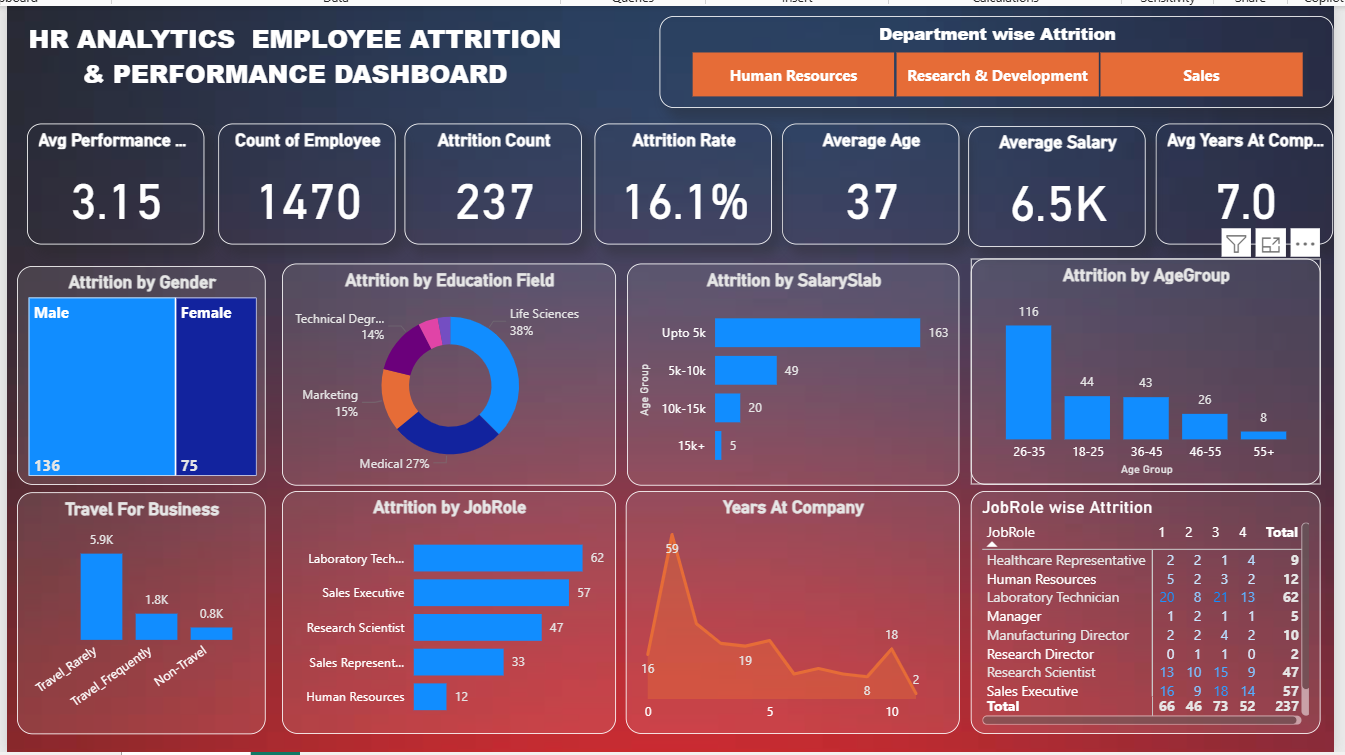

The page's visual inventory and layout, read from the dashboard file:
{"tool":"powerbi","page":{"name":"Hr_Analysis","canvas":[1280,720],"ordinal":0},"visuals":[{"type":"card","title":"Count of Employee","fields":{"Values":["Sum(HR_Analytics_project.EmployeeCount)"]},"box":[204.5,113.9,171.5,116.6],"z":0},{"type":"card","title":"Average Age","fields":{"Values":["Avg(HR_Analytics_project.Age)"]},"box":[747.9,113.9,171.5,116.6],"z":1000},{"type":"card","title":"Attrition Rate","fields":{"Values":["HR_Analytics_project.AttritionRate"]},"box":[566.7,113.9,171.5,116.6],"z":2000},{"type":"card","title":"Attrition Count","fields":{"Values":["Sum(HR_Analytics_project.AttritionCount)"]},"box":[384.2,113.9,171.5,116.6],"z":3000},{"type":"card","title":"Avg Years At Company","fields":{"Values":["Avg(HR_Analytics_project.YearsAtCompany)"]},"box":[1108.8,113.9,171.5,116.6],"z":4000},{"type":"card","title":"Average Salary","fields":{"Values":["Avg(HR_Analytics_project.MonthlyIncome)"]},"box":[927.6,115.3,171.5,116.6],"z":5000},{"type":"donutChart","title":"Attrition by Education Field","fields":{"Category":["HR_Analytics_project.EducationField"],"Y":["Sum(HR_Analytics_project.AttritionCount)"]},"box":[264.8,248.4,322.5,214.1],"z":6000},{"type":"clusteredColumnChart","title":"Attrition by AgeGroup","fields":{"Category":["HR_Analytics_project.AgeGroup"],"Y":["Sum(HR_Analytics_project.AttritionCount)"]},"box":[930.4,244.3,337.6,218.2],"z":7000},{"type":"pivotTable","title":"JobRole wise Attrition","fields":{"Rows":["JobRoleTable.JobRole"],"Columns":["HR_Analytics_project.JobSatisfaction"],"Values":["Sum(HR_Analytics_project.AttritionCount)"]},"box":[930.4,467.9,337.6,234.6],"z":8000},{"type":"barChart","title":"Attrition by SalarySlab","fields":{"Category":["HR_Analytics_project.SalarySlab"],"Y":["Sum(HR_Analytics_project.AttritionCount)"]},"box":[598.3,248.4,321.1,214.1],"z":9000},{"type":"areaChart","title":"Years At Company","fields":{"Category":["HR_Analytics_project.YearsAtCompany"],"Y":["Sum(HR_Analytics_project.AttritionCount)"]},"box":[596.9,467.9,322.5,234.6],"z":10000},{"type":"barChart","title":"Attrition by JobRole","fields":{"Y":["Sum(HR_Analytics_project.AttritionCount)"],"Category":["JobRoleTable.JobRole"]},"box":[264.8,467.9,322.5,234.6],"z":11000},{"type":"treemap","title":"Attrition by Gender","fields":{"Group":["HR_Analytics_project.Gender"],"Values":["Sum(HR_Analytics_project.AttritionCount)"]},"box":[9.6,251.1,240.1,211.3],"z":12000},{"type":"slicer","title":"Department wise Attrition","fields":{"Values":["DepartmentTable.Department"]},"box":[629.8,9.6,650.4,89.2],"z":13000},{"type":"textbox","box":[9.6,9.6,536.5,89.2],"z":14000},{"type":"card","title":"Avg Performance Rating","fields":{"Values":["Avg(HR_Analytics_project.PerformanceRating)"]},"box":[19.2,113.9,171.5,116.6],"z":15000},{"type":"lineStackedColumnComboChart","title":"Travel For Business","fields":{"Category":["HR_Analytics_project.BusinessTravel"],"Y":["Sum(HR_Analytics_project.TotalWorkingYears)"]},"box":[9.6,469.3,240.1,233.3],"z":16000}]}

Visuals, with their boxes in screenshot pixels (x1, y1, x2, y2):
"Count of Employee" card: Rect(215, 139, 393, 260)
"Average Age" card: Rect(779, 139, 956, 260)
"Attrition Rate" card: Rect(591, 139, 768, 260)
"Attrition Count" card: Rect(402, 139, 579, 260)
"Avg Years At Company" card: Rect(1152, 139, 1330, 260)
"Average Salary" card: Rect(965, 140, 1142, 261)
"Attrition by Education Field" donutChart: Rect(278, 278, 612, 500)
"Attrition by AgeGroup" clusteredColumnChart: Rect(968, 274, 1317, 500)
"JobRole wise Attrition" pivotTable: Rect(968, 506, 1317, 749)
"Attrition by SalarySlab" barChart: Rect(623, 278, 956, 500)
"Years At Company" areaChart: Rect(622, 506, 956, 749)
"Attrition by JobRole" barChart: Rect(278, 506, 612, 749)
"Attrition by Gender" treemap: Rect(13, 281, 262, 500)
"Department wise Attrition" slicer: Rect(656, 31, 1330, 123)
textbox: Rect(13, 31, 569, 123)
"Avg Performance Rating" card: Rect(23, 139, 201, 260)
"Travel For Business" lineStackedColumnComboChart: Rect(13, 507, 262, 749)
